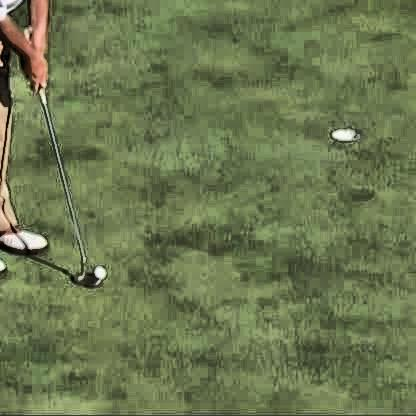golfball: (92, 260, 105, 276)
